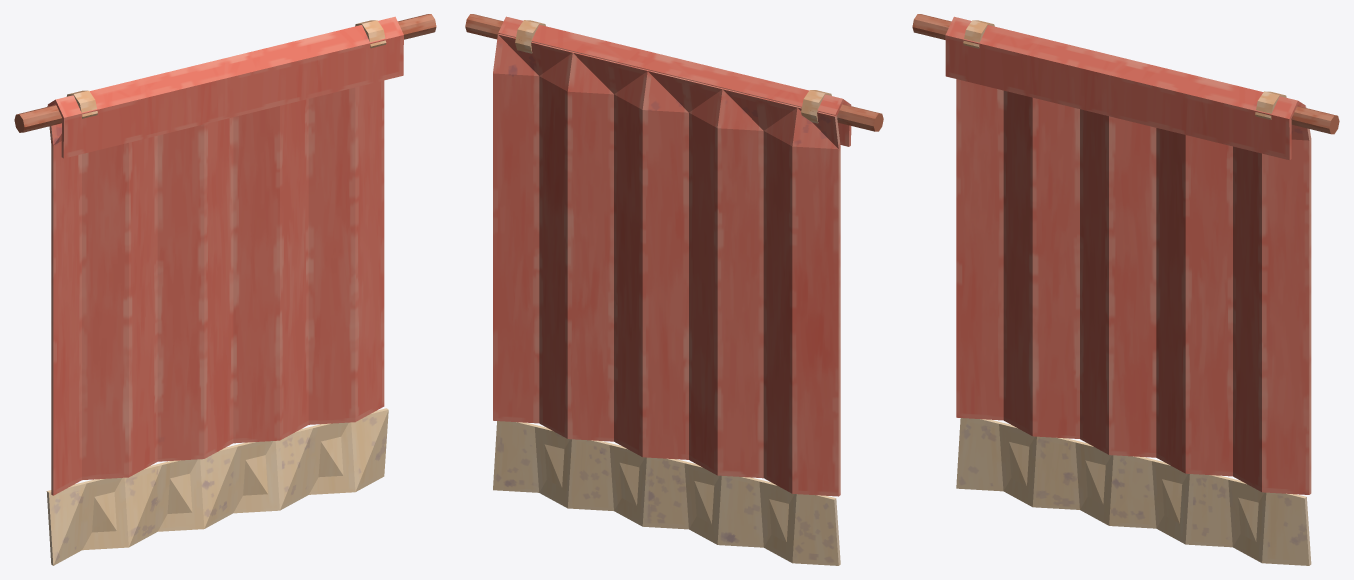
Rendered from cloth.fbx.
The picture shows the model from 3 angles, left to right: view 1: azimuth 30°, elevation 25°; view 2: azimuth 150°, elevation 25°; view 3: azimuth 330°, elevation 25°; orthographic projection. The views are drawn at different scales.
Parts seen in each view (by area): view 1: cloth; view 2: cloth; view 3: cloth.
Part boxes in pixels (x1=…): cloth: x1=14, y1=14, x2=436, y2=565; cloth: x1=465, y1=14, x2=883, y2=565; cloth: x1=912, y1=14, x2=1339, y2=565.
Size of the model in its own units: 8 by 8.7 by 0.745.
1 material, 1 textured.
